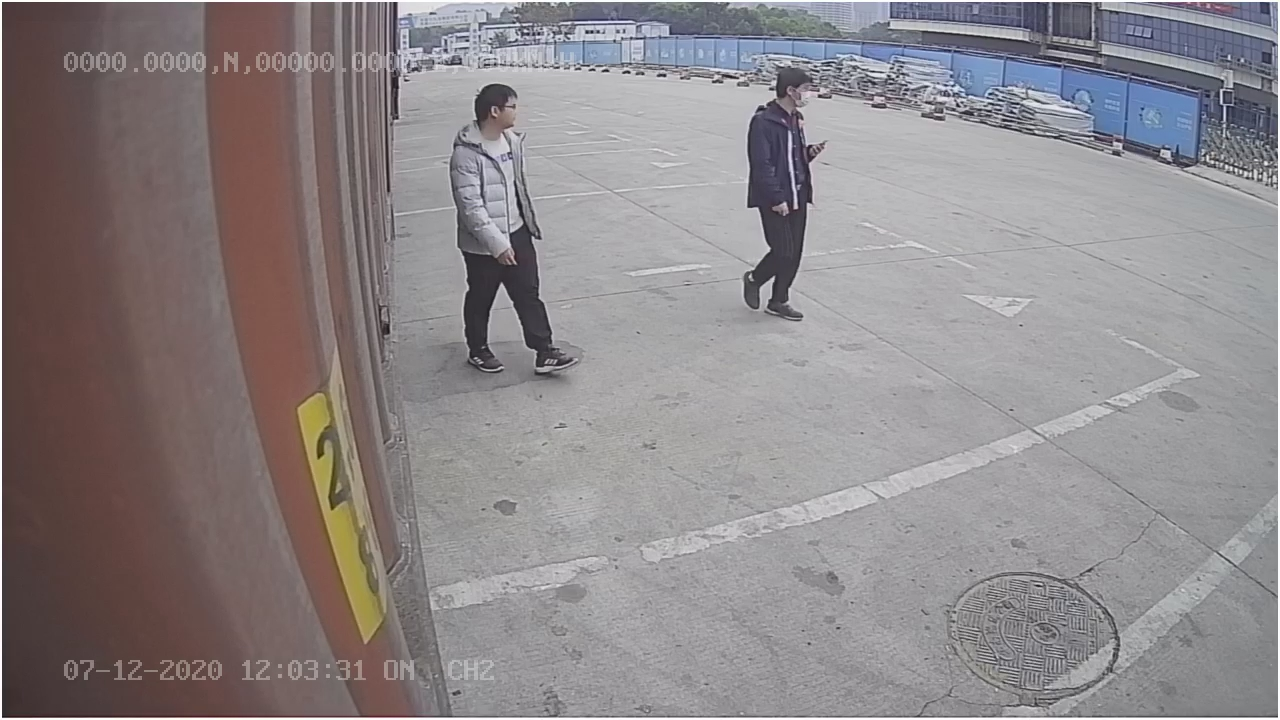person: (444, 76, 580, 383), (734, 60, 824, 321)
